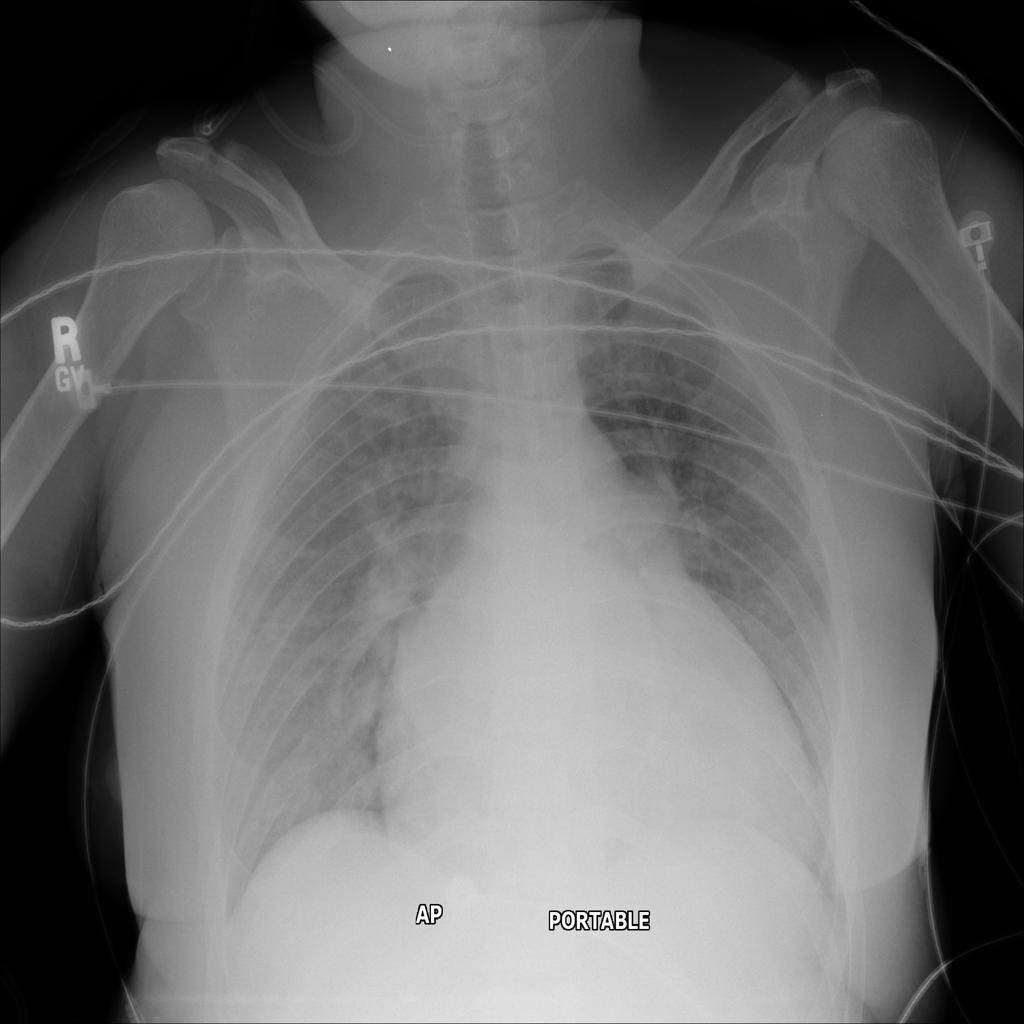Cardiomegaly: (379, 546, 822, 889)
